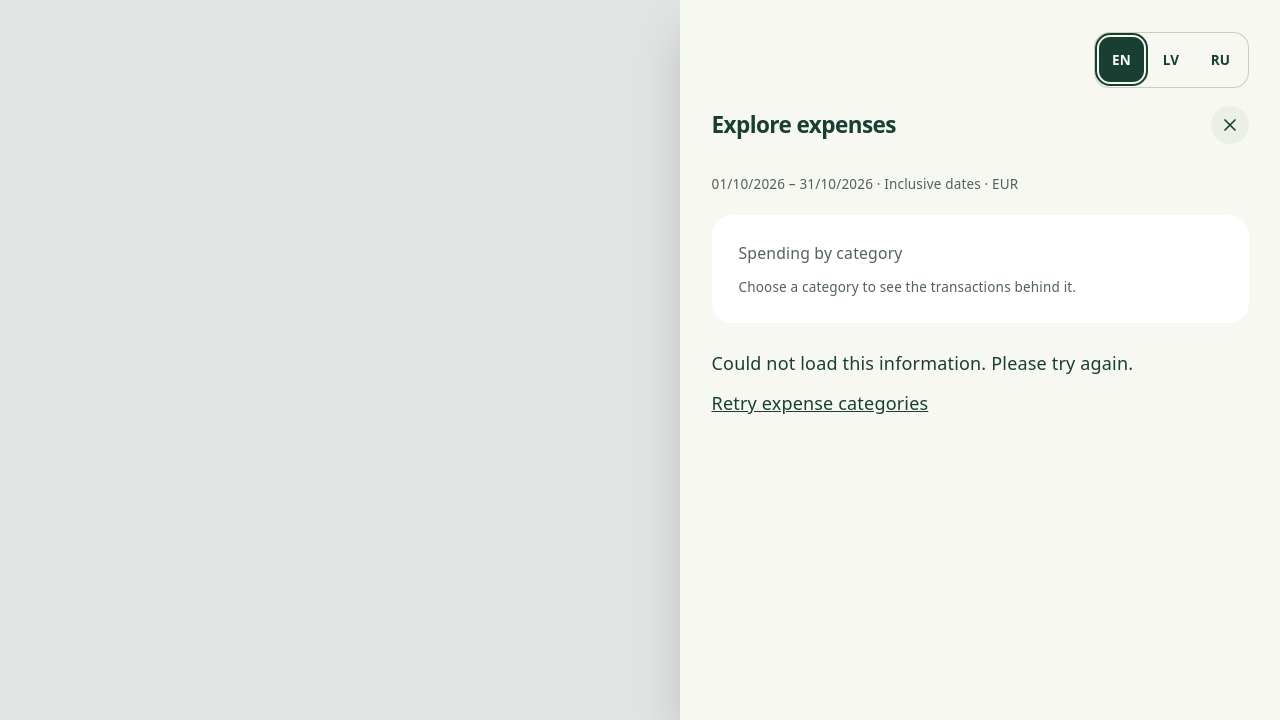
Test: recovers from a category load error instead of showing an empty total as successful data
Expected: the message "Could not load this information. Please try again. Retry expense categories" is shown, x1=712 y1=352 x2=1133 y2=416
Click the button "Retry expense categories" at {"x": 820, "y": 403}, box x1=712 y1=390 x2=928 y2=416
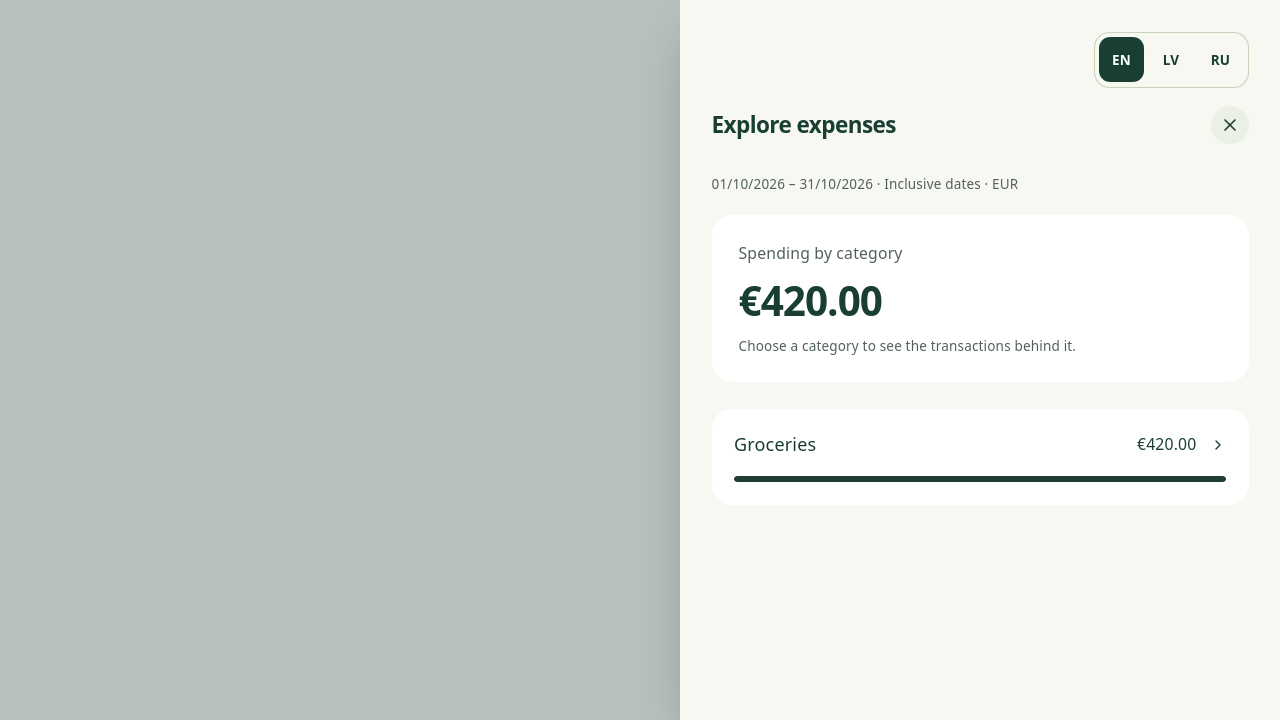
Expected: the button "Groceries €420.00" is shown, x1=712 y1=409 x2=1248 y2=505
